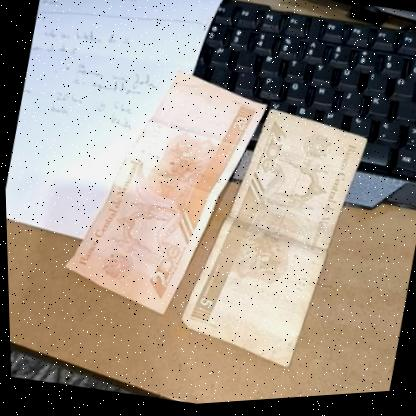five-back-vef: (167, 95, 374, 385)
twenty-back-vef: (48, 49, 276, 348)
